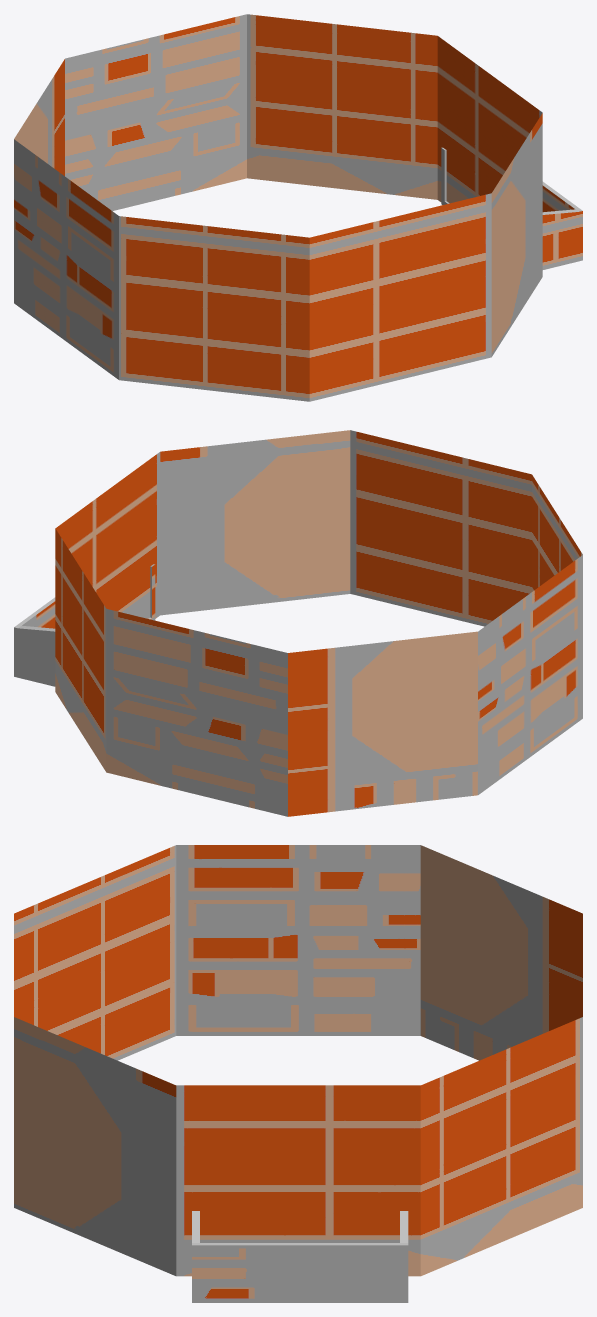
Rendered from tek_balkonlu_kat.fbx.
3 views of the same model, one above another, from view 1: azimuth 30°, elevation 25°; view 2: azimuth 150°, elevation 25°; view 3: azimuth 270°, elevation 25° (orthographic). The views are drawn at different scales.
Visible parts, largest first — view 1: Cube.002; view 2: Cube.002; view 3: Cube.002.
Boxes of the visible parts, x1,y1,x2,y2 form: Cube.002: (14,14,582,401); Cube.002: (14,430,582,816); Cube.002: (14,845,582,1302).
Size of the model in its own units: 222 by 74.06 by 200.
